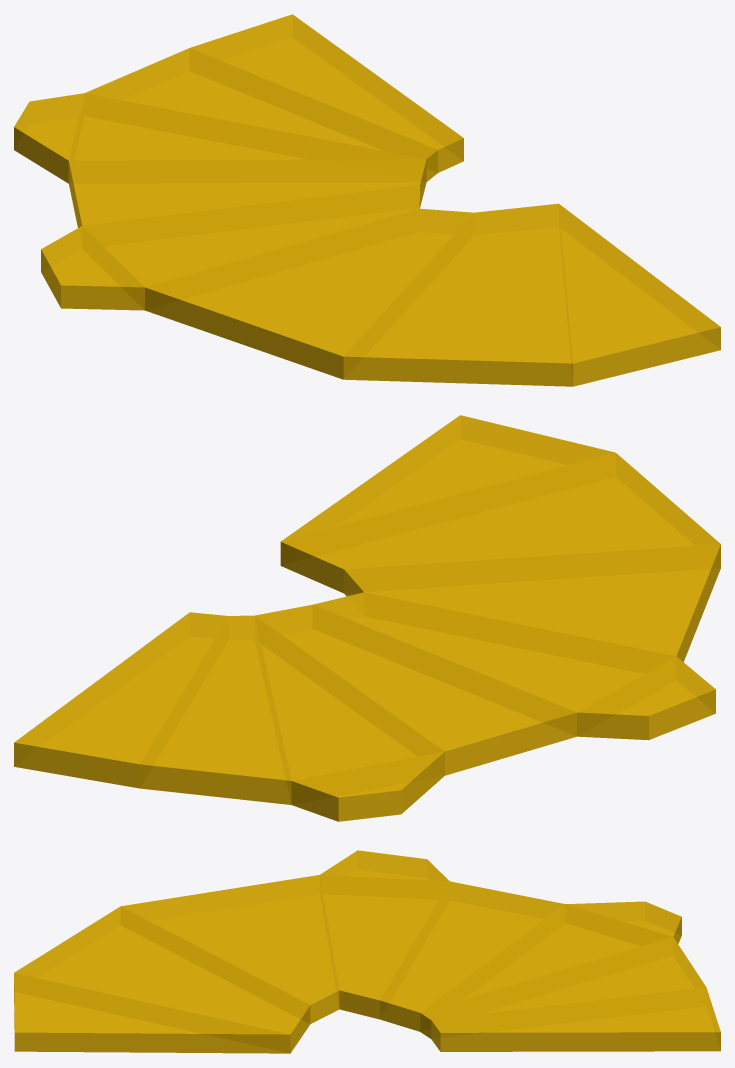
Rendered from SM_Bld_Dock_Round_04_Collision.fbx.
3 views of the same model, one above another, from view 1: azimuth 30°, elevation 25°; view 2: azimuth 150°, elevation 25°; view 3: azimuth 270°, elevation 25° (orthographic). The views are drawn at different scales.
Visible parts, largest first — view 1: SM_Bld_Dock_Round_04_Collision; view 2: SM_Bld_Dock_Round_04_Collision; view 3: SM_Bld_Dock_Round_04_Collision.
Part boxes in pixels (box(x1,y1,x2,y2)): SM_Bld_Dock_Round_04_Collision: box(14, 14, 720, 386); SM_Bld_Dock_Round_04_Collision: box(14, 415, 720, 821); SM_Bld_Dock_Round_04_Collision: box(14, 850, 720, 1053).
Bounding box in the file's own units: 415 × 20.03 × 672.
